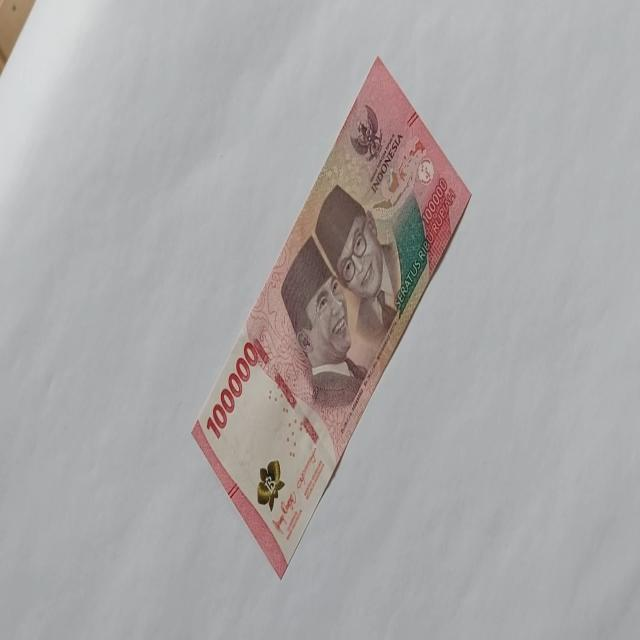seratus ribu rupiah: (190, 54, 472, 579)
